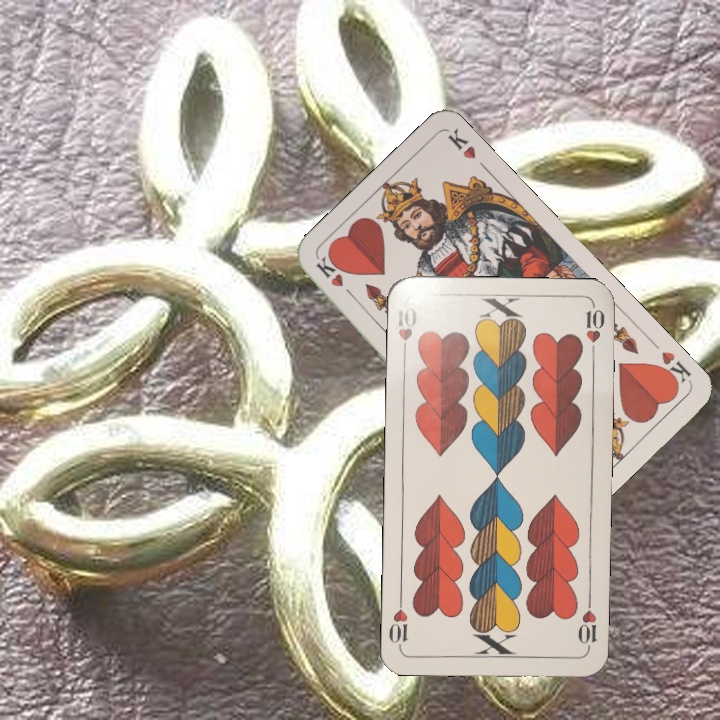H10: (573, 593, 600, 652), (394, 303, 420, 359)
HK: (311, 253, 360, 303), (651, 347, 694, 392)
